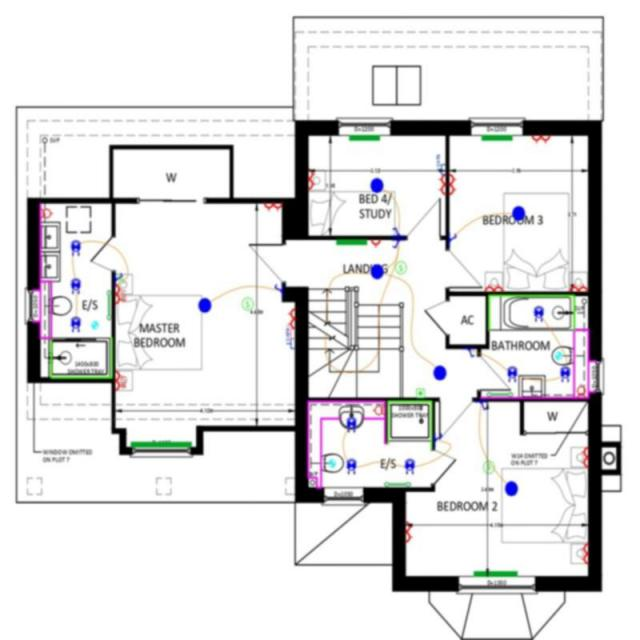Cat 6 Data Socke: (436, 153, 446, 170), (286, 338, 294, 349)
Ceiling Mounted Continuous Extract FanWith Boost Mode Activated By Light Switch: (554, 350, 562, 360), (90, 321, 98, 329), (329, 459, 336, 467)
Double Socket: (436, 172, 446, 194), (446, 173, 456, 195), (530, 134, 550, 144), (484, 282, 504, 292), (568, 282, 587, 292), (580, 446, 589, 467), (262, 201, 282, 210), (580, 542, 588, 564), (404, 521, 412, 542), (286, 307, 294, 328), (306, 170, 314, 190)
Full Height Tiling: (486, 294, 572, 328), (48, 338, 110, 376), (388, 400, 430, 441)
Light Switch: (370, 238, 381, 248), (273, 282, 281, 294), (391, 239, 400, 249), (391, 227, 400, 236), (466, 348, 475, 357), (433, 433, 442, 442), (115, 272, 123, 282), (449, 232, 456, 242), (479, 402, 488, 408)
Low Energy Downlighter: (69, 315, 81, 334), (345, 458, 357, 474), (70, 238, 80, 256), (559, 366, 570, 382), (345, 416, 356, 432), (70, 278, 80, 295), (533, 305, 543, 322), (506, 366, 516, 382), (404, 458, 414, 474)
Low Energy Pendant Light: (511, 205, 526, 221), (369, 264, 383, 278), (432, 365, 446, 379), (197, 297, 210, 312), (504, 480, 517, 495), (370, 177, 382, 193)
Mains Wired Smoke Detector: (240, 296, 253, 310), (394, 260, 406, 274), (482, 460, 494, 474)
Programmable Room Thermostat: (414, 387, 424, 398)
Radiator: (130, 441, 192, 446), (472, 570, 518, 576), (336, 238, 367, 245), (480, 134, 512, 140), (348, 134, 379, 140)
Shaver Socket: (370, 404, 384, 417), (574, 382, 586, 397), (39, 207, 52, 220)
TV - Satellite Multisocket: (286, 328, 294, 338)
USB Double Socket: (115, 282, 126, 304), (115, 370, 126, 390)
